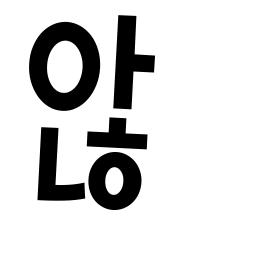Gaji: (106, 44, 147, 83)
